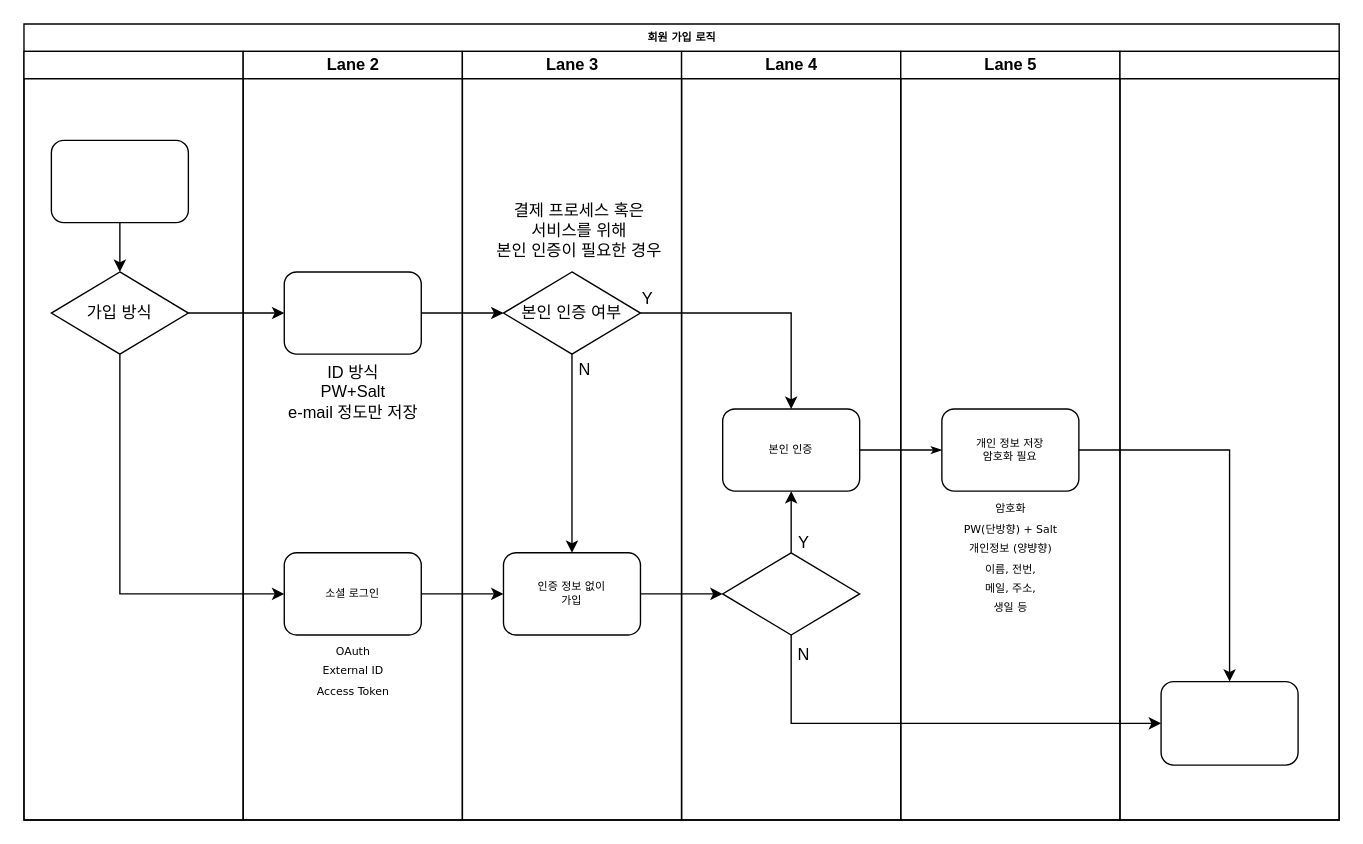
Some shapes in this 1363 by 844 pixel diagram are drawn without their labels. The shapes that lost their labels are listed below. From the top down, each one's box as (x1, y1, x2, y2) in pixels, then its label:
(50, 139, 188, 223): 회원가입
(283, 271, 421, 354): ID 방식
(23, 50, 243, 820): Lane 1
(1119, 50, 1339, 820): Lane 6
(721, 551, 860, 635): 결제 필요
(1160, 680, 1298, 765): 가입 완료
